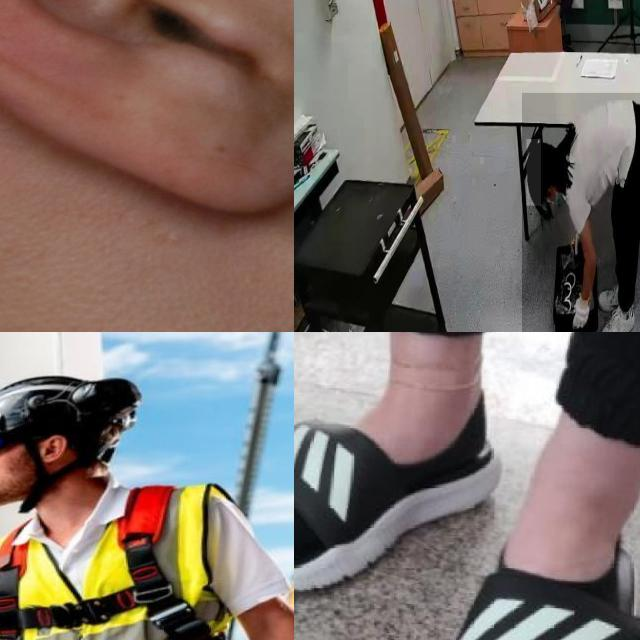Harness: (0, 484, 243, 640)
No_Ear-Protection: (0, 0, 294, 224), (33, 430, 75, 467)
Sandals: (294, 332, 499, 601), (399, 501, 640, 640)
hand_glove: (569, 287, 592, 332)
head_nohelmet: (526, 139, 542, 207)
person: (522, 93, 640, 332)
shoes: (600, 299, 637, 332), (597, 283, 628, 312)
